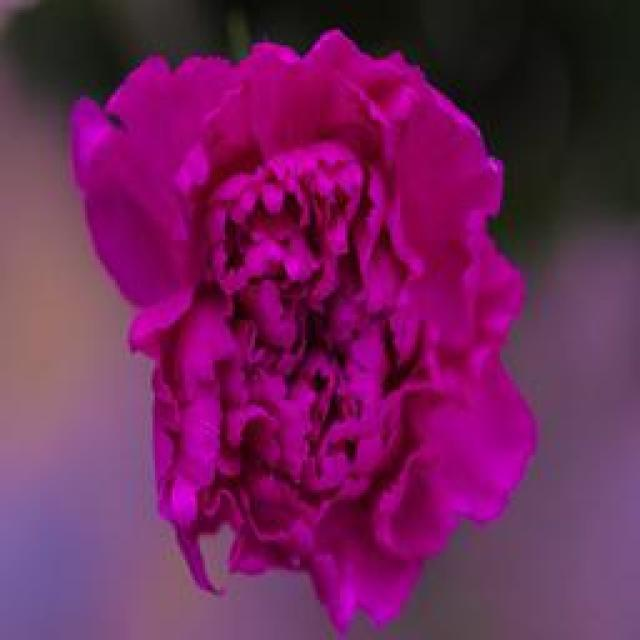carnation: (52, 29, 569, 638)
